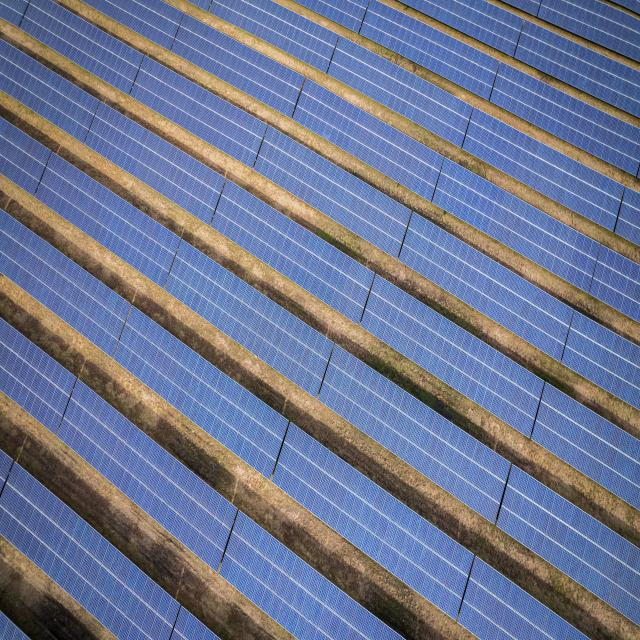solar-panel: (370, 374, 456, 480), (409, 33, 519, 112), (511, 183, 584, 267), (10, 46, 78, 130), (278, 1, 361, 69), (161, 452, 214, 554), (1, 119, 73, 194), (212, 373, 274, 459), (86, 98, 149, 178), (150, 133, 213, 213), (215, 164, 278, 244), (279, 218, 342, 298), (213, 106, 283, 178), (542, 285, 605, 364), (377, 122, 444, 193), (453, 549, 515, 625), (453, 332, 507, 419), (376, 494, 431, 579), (349, 187, 426, 246), (591, 510, 634, 614), (447, 253, 521, 312), (39, 9, 108, 70), (294, 326, 349, 402), (540, 379, 582, 477), (1, 463, 43, 560), (177, 5, 228, 81), (47, 492, 84, 596), (479, 431, 521, 521), (138, 52, 187, 129), (349, 259, 396, 336), (239, 513, 276, 601), (126, 558, 164, 640), (269, 65, 319, 127), (568, 93, 622, 150), (1, 320, 38, 402), (246, 291, 288, 363), (153, 329, 195, 400), (284, 420, 319, 504), (333, 459, 368, 543), (78, 295, 134, 346), (90, 531, 119, 627), (118, 416, 150, 503), (497, 116, 552, 166), (172, 232, 207, 310), (284, 556, 315, 637), (122, 207, 159, 274), (507, 23, 574, 60), (544, 479, 572, 566), (45, 359, 74, 435), (411, 296, 438, 374), (81, 181, 116, 240), (37, 248, 75, 302), (76, 377, 103, 450), (587, 12, 637, 48), (624, 421, 640, 512), (344, 593, 371, 640), (1, 213, 28, 260), (209, 264, 234, 310)
